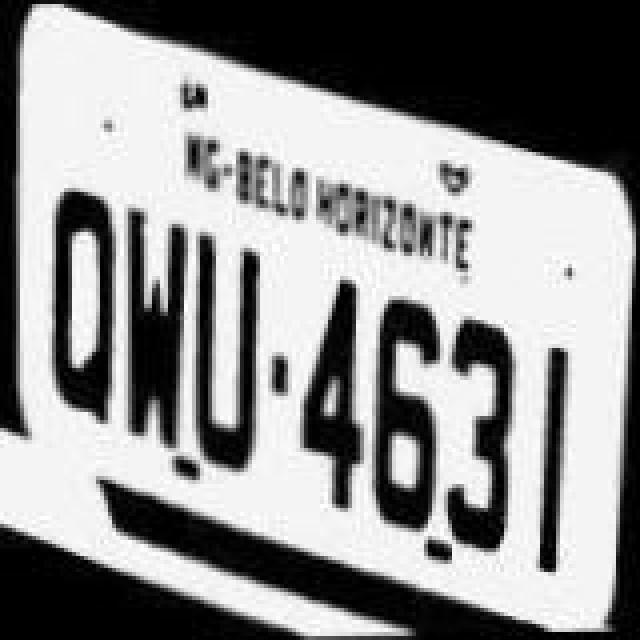1: (516, 348, 580, 572)
3: (438, 320, 522, 552)
4: (292, 280, 376, 516)
6: (366, 302, 446, 538)
Q: (44, 192, 124, 424)
U: (184, 234, 272, 470)
W: (116, 214, 196, 446)
